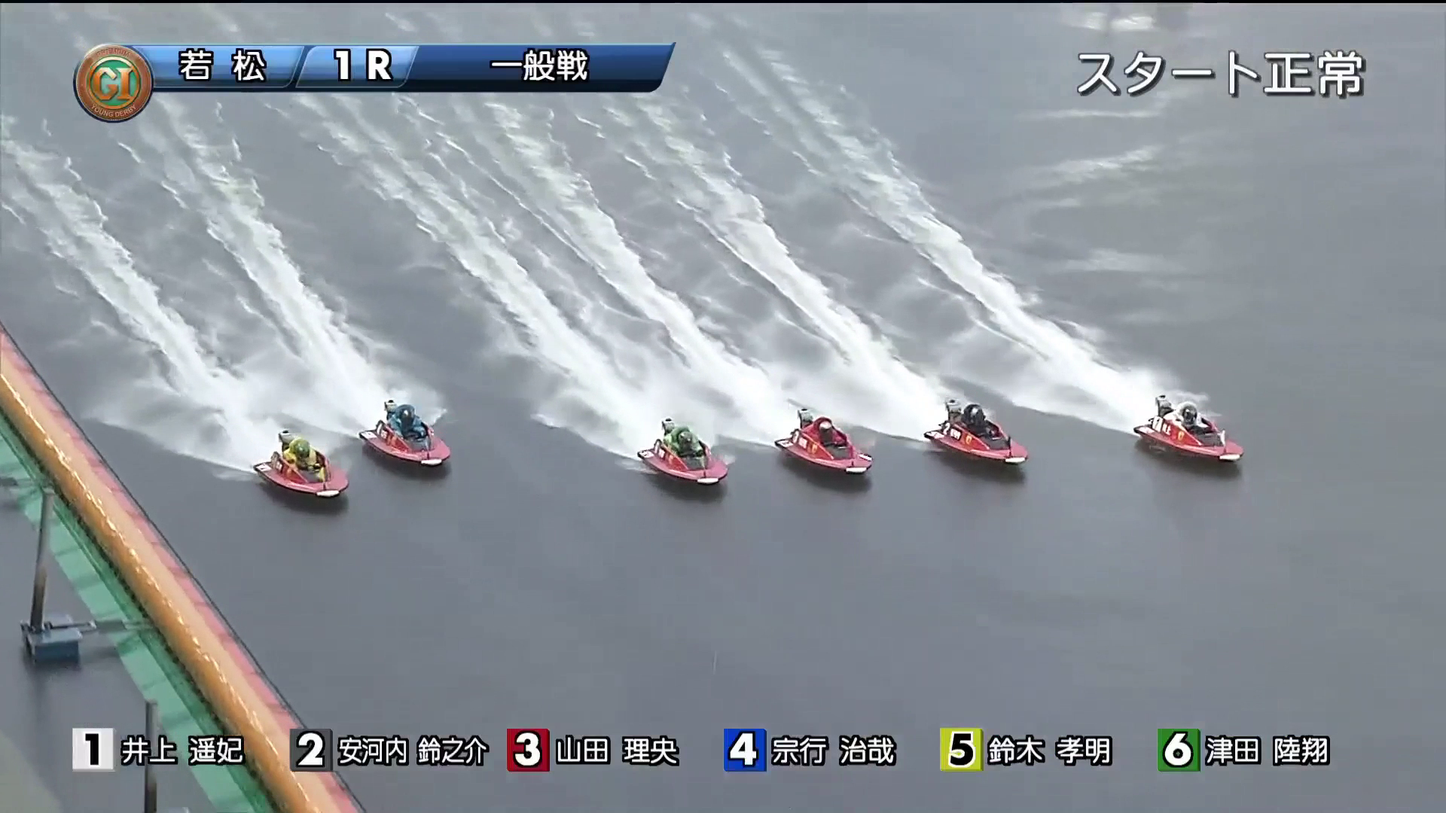１号艇: (1151, 385, 1250, 430)
２号艇: (938, 395, 1039, 439)
３号艇: (778, 425, 883, 467)
４号艇: (630, 426, 739, 476)
５号艇: (345, 399, 466, 454)
６号艇: (266, 449, 366, 506)
